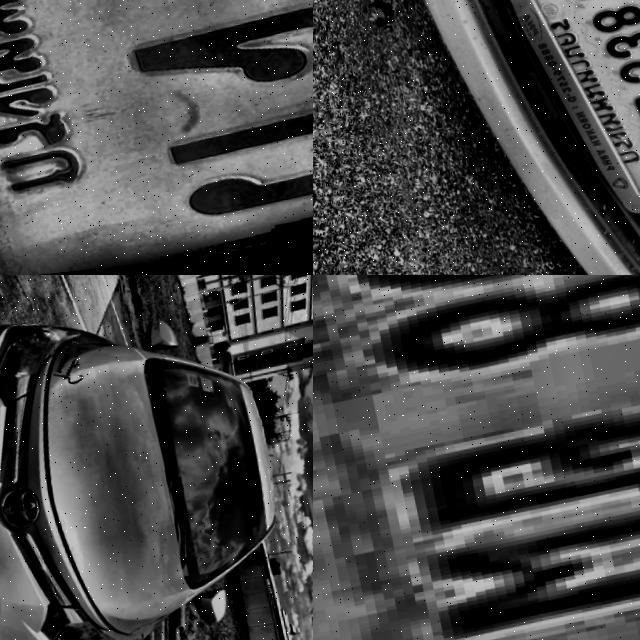license-plate: (313, 275, 640, 640), (0, 0, 313, 275), (487, 0, 640, 244)
